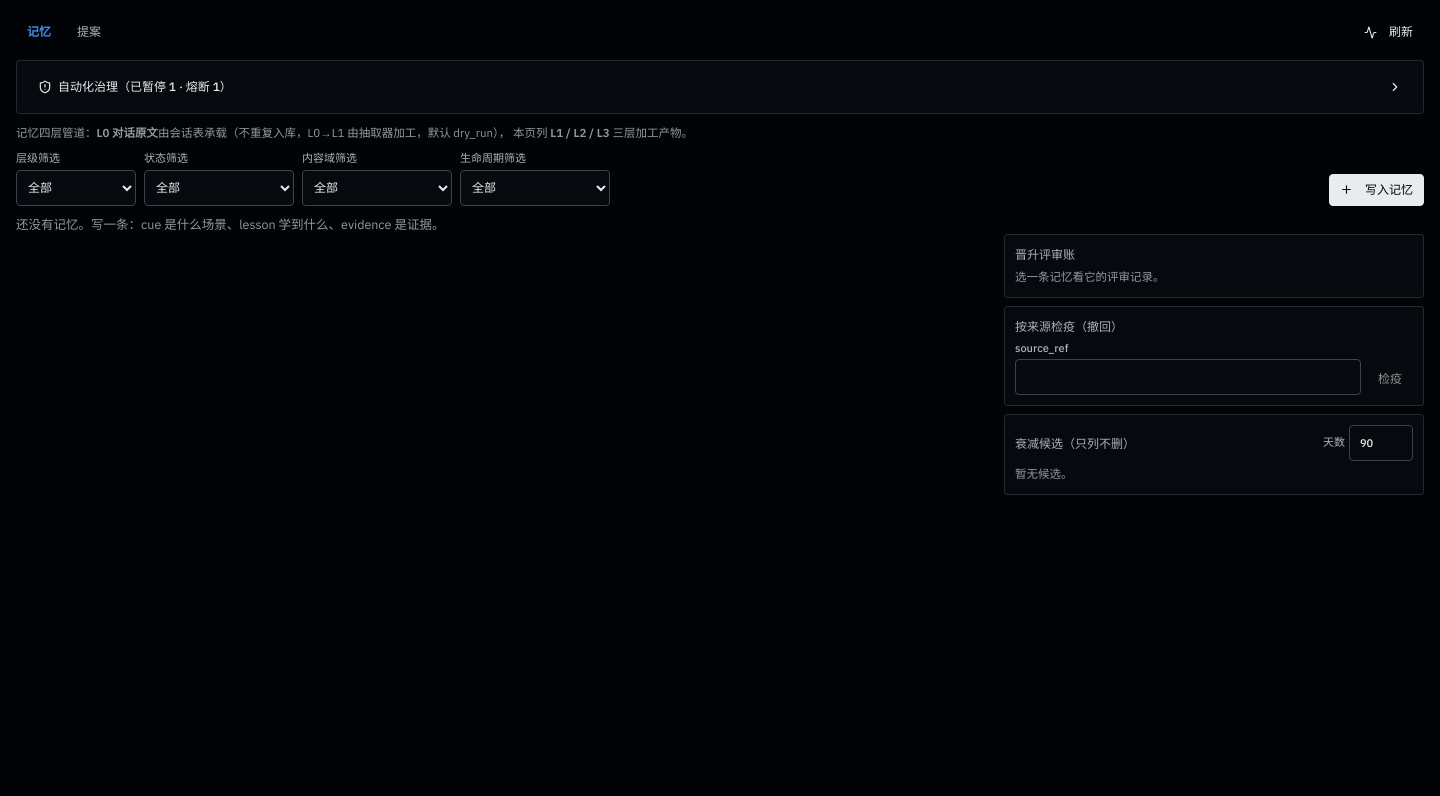
Test: 记忆 tab › 因果前缀冲突：409 文案透传
Expected: the text "还没有记忆。写一条：cue 是什么场景、lesson 学到什么、evidence 是证据。" is shown, x1=16 y1=216 x2=444 y2=232
Click the button "写入记忆" at (1376, 190), box x1=1329 y1=174 x2=1424 y2=206
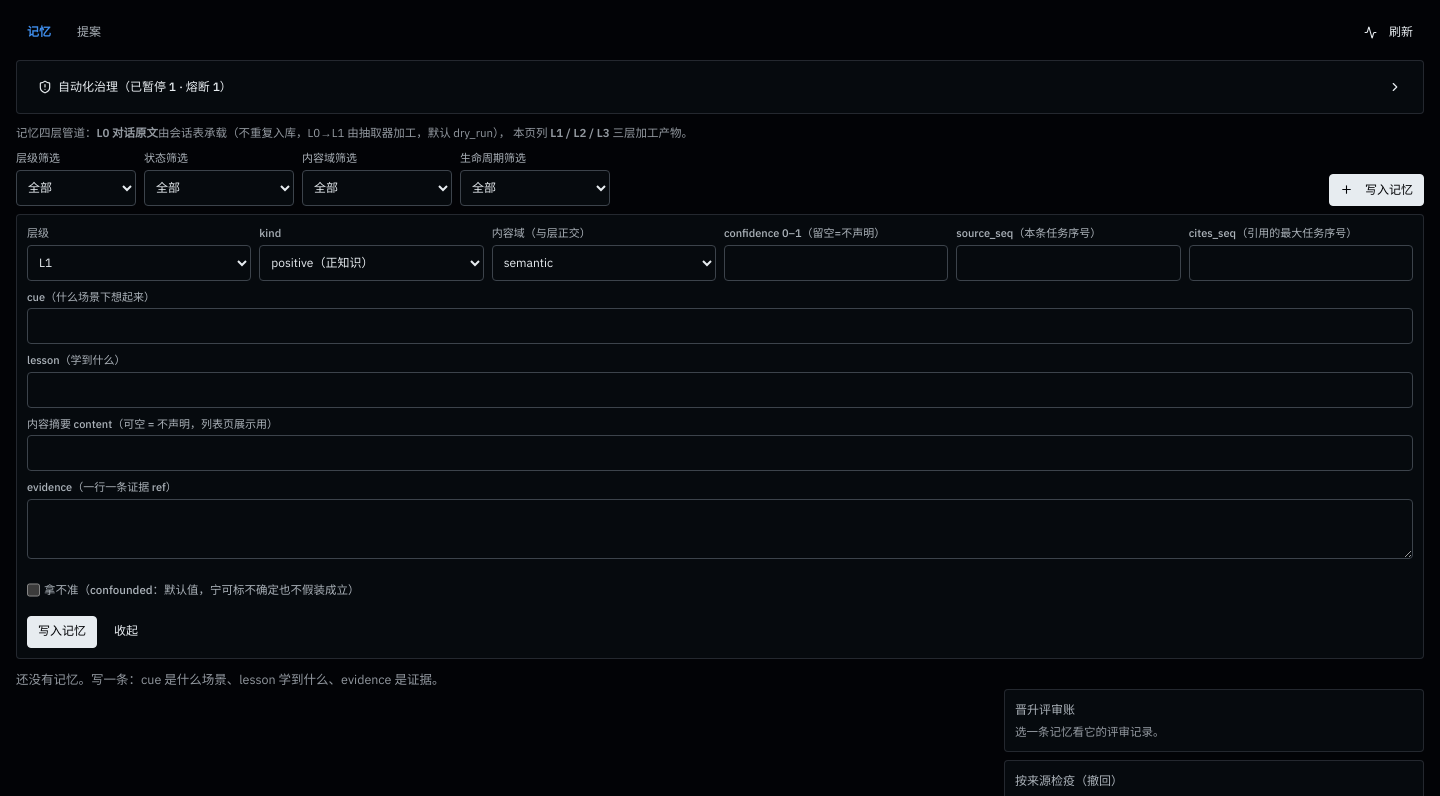
Click the button "写入记忆" below "拿不准（confounded：默认值，宁可标不确定也不假装成立）" at (62, 632), box x1=27 y1=616 x2=97 y2=648
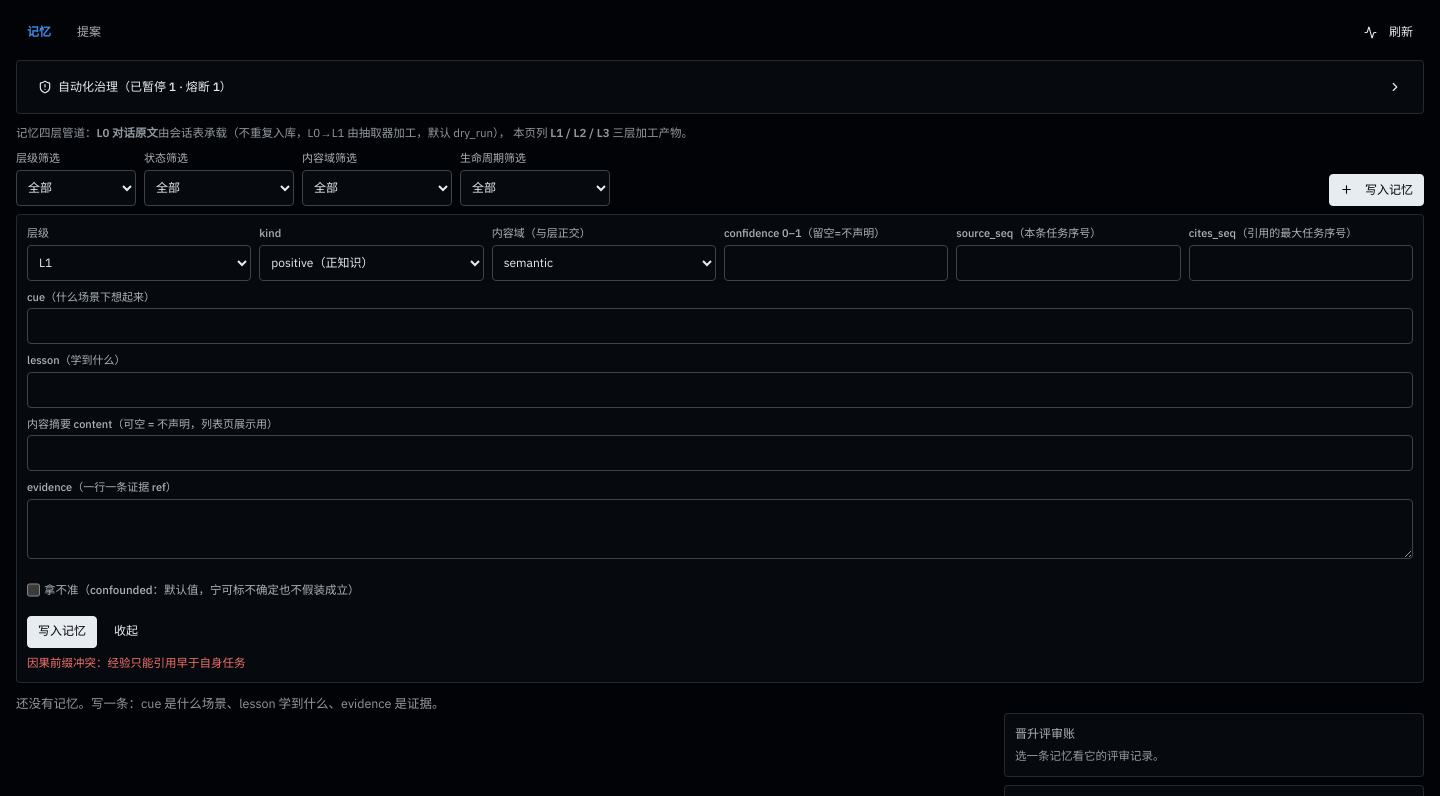
Expected: the message shows "因果前缀冲突", x1=27 y1=655 x2=246 y2=670
